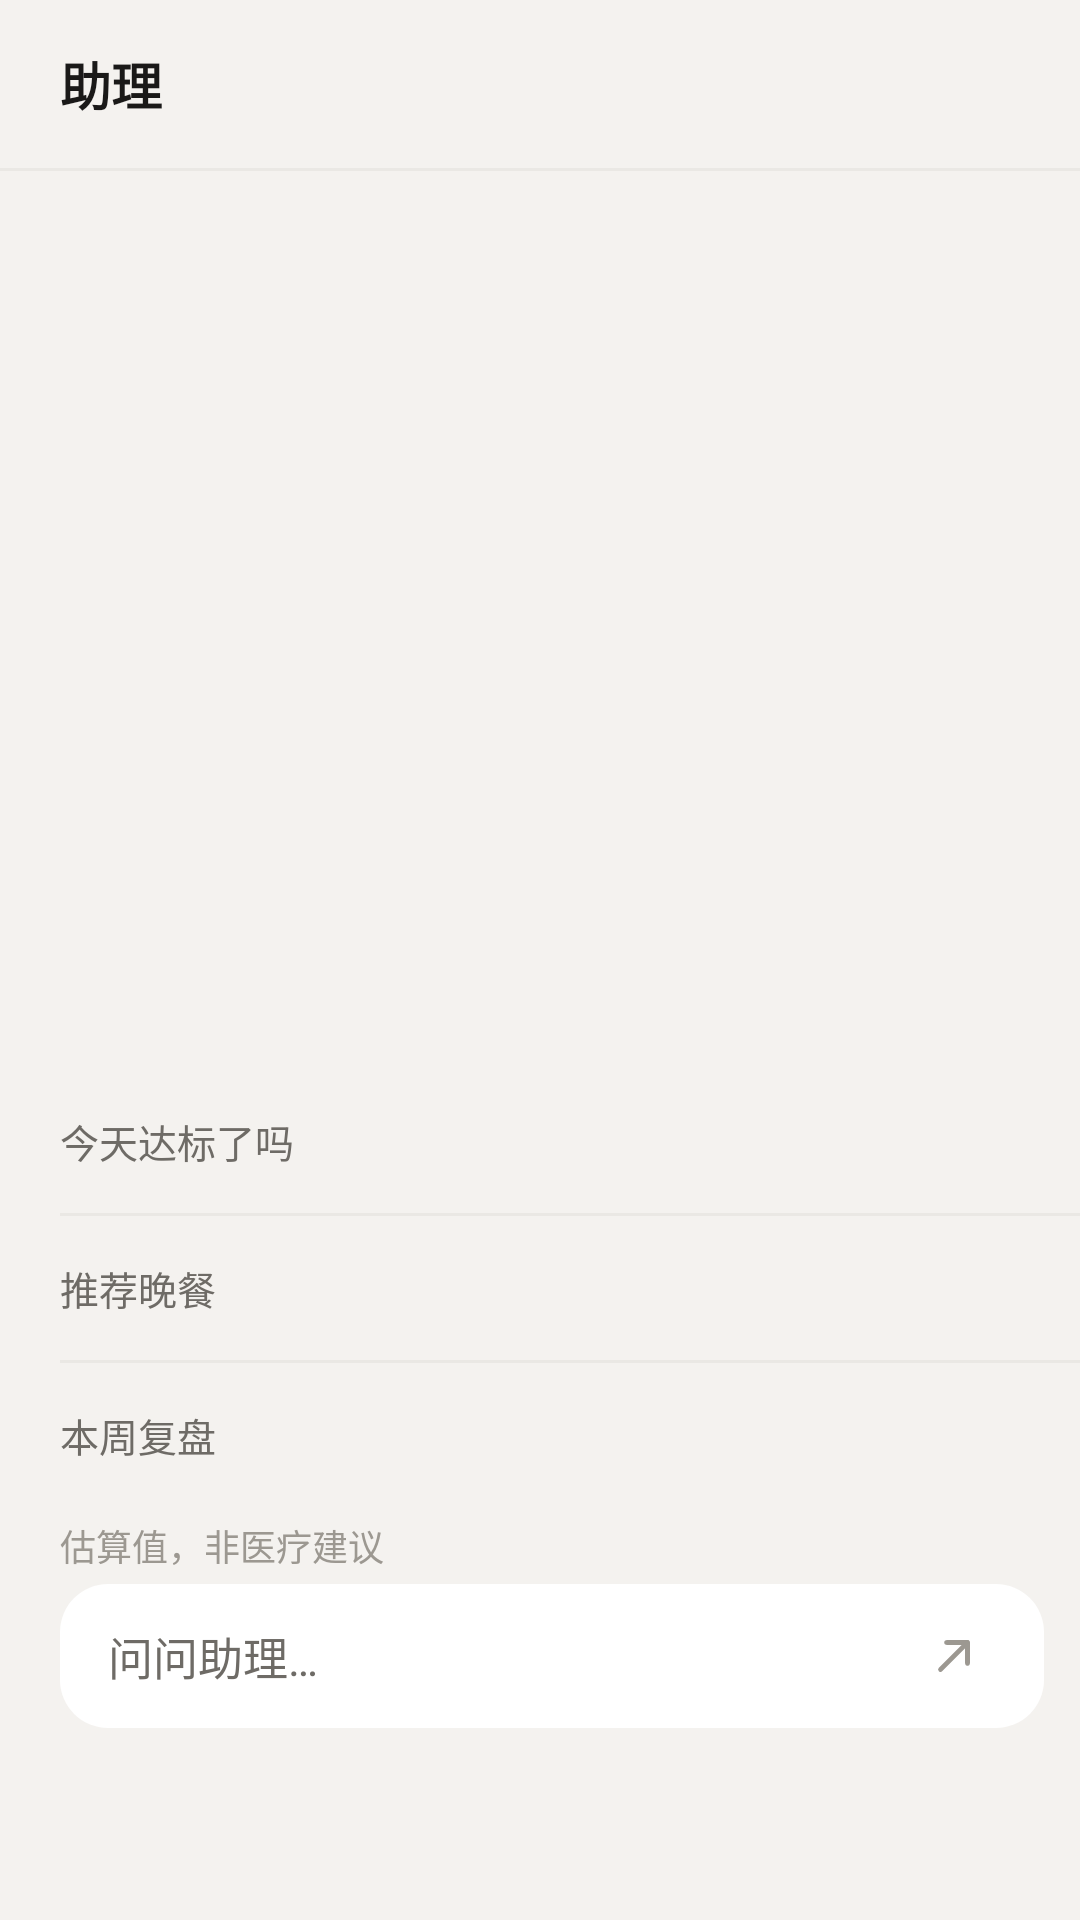

Icons on this 1080×1920 Android screen, each with the point to tap as (x=x, y=y):
发送: (x=954, y=1656)
